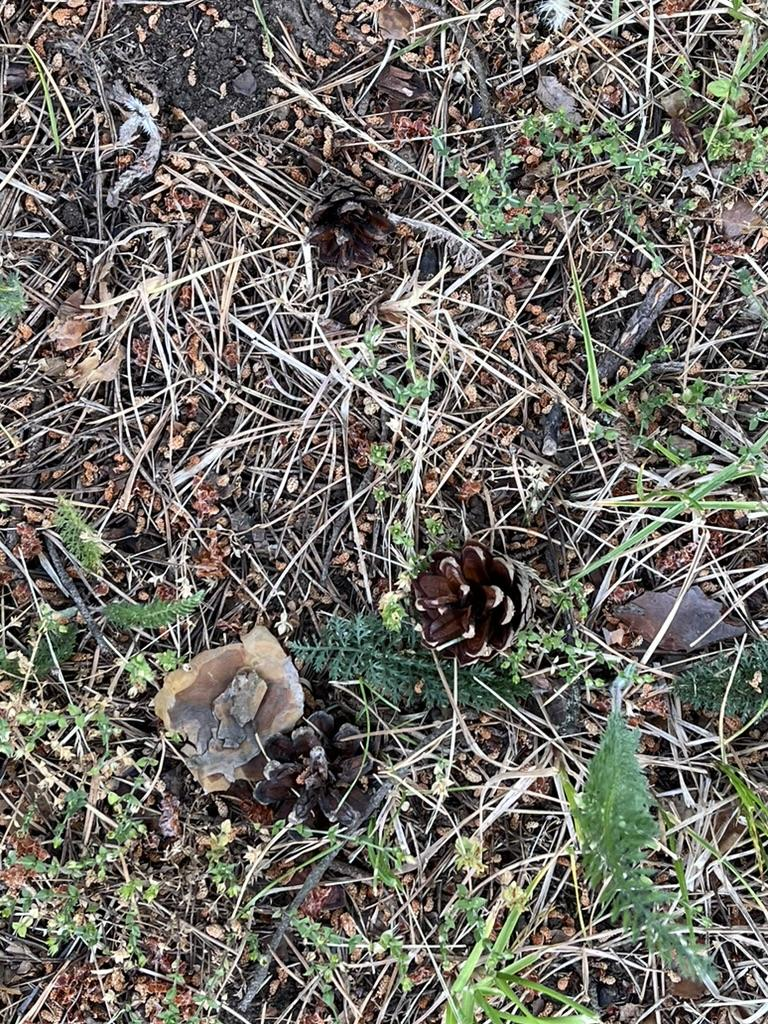pine: (241, 708, 406, 848), (398, 528, 546, 678), (294, 163, 426, 316)
